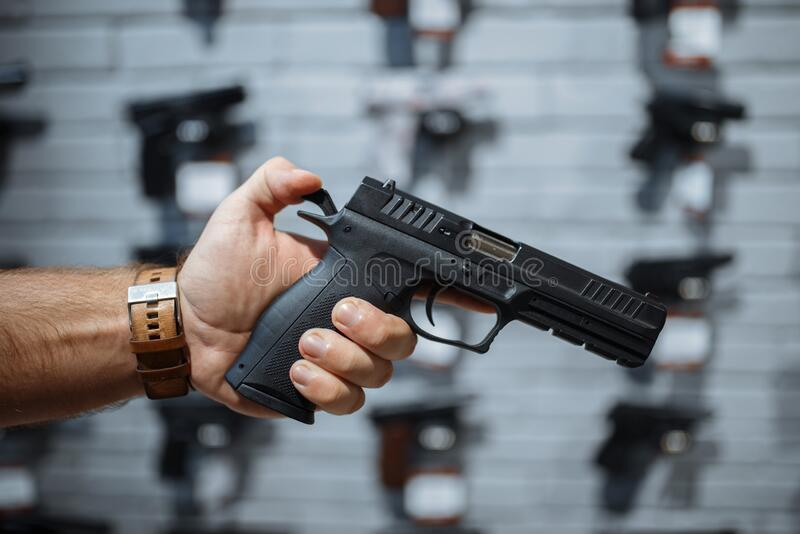weapon: (223, 173, 667, 427)
